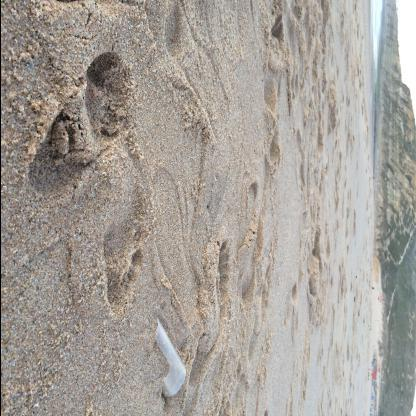plastik: (155, 319, 186, 399)
